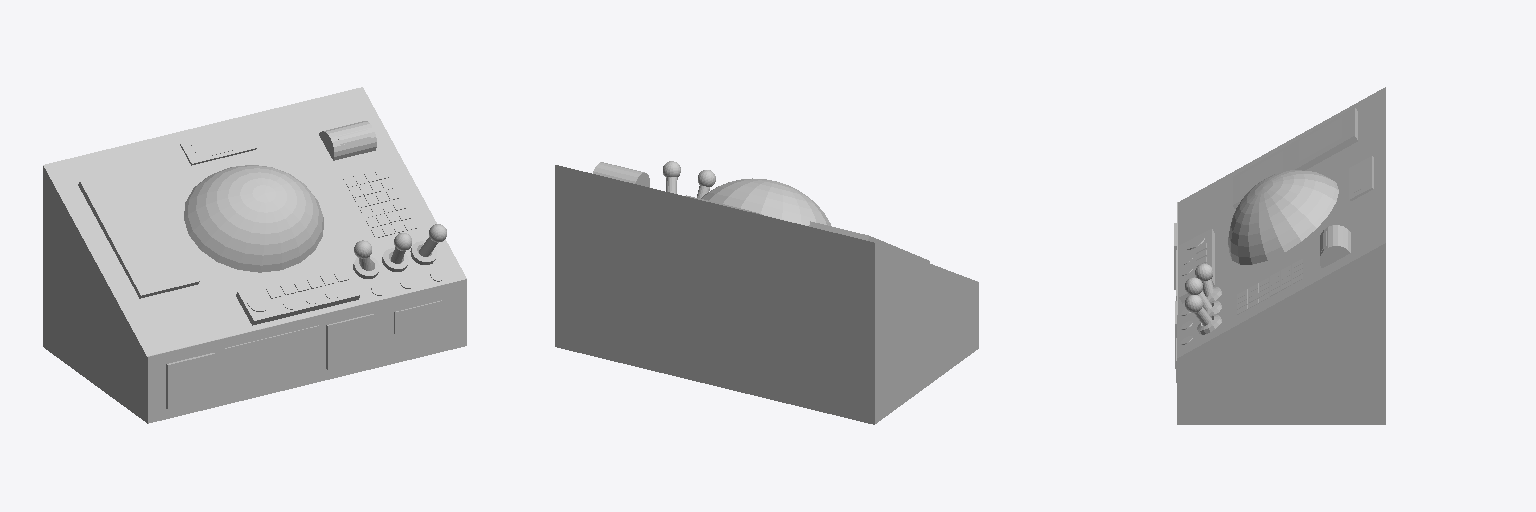
The model's file is maquina.obj.
3 views of the same model, side by side, from view 1: azimuth 30°, elevation 25°; view 2: azimuth 150°, elevation 25°; view 3: azimuth 270°, elevation 25° (orthographic).
Visible parts, largest first — view 1: group33_pasted__group30_pasted__pasted__group26_pasted__pasted__; view 2: group33_pasted__group30_pasted__pasted__group26_pasted__pasted__; view 3: group33_pasted__group30_pasted__pasted__group26_pasted__pasted__.
Boxes of the visible parts, <box> form: group33_pasted__group30_pasted__pasted__group26_pasted__pasted__: <box>43,87,466,423</box>; group33_pasted__group30_pasted__pasted__group26_pasted__pasted__: <box>555,161,978,424</box>; group33_pasted__group30_pasted__pasted__group26_pasted__pasted__: <box>1174,87,1385,424</box>.
Size of the model in its own units: 3 by 1.64 by 1.73.